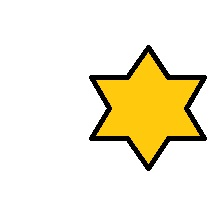star: (88, 44, 207, 171)
